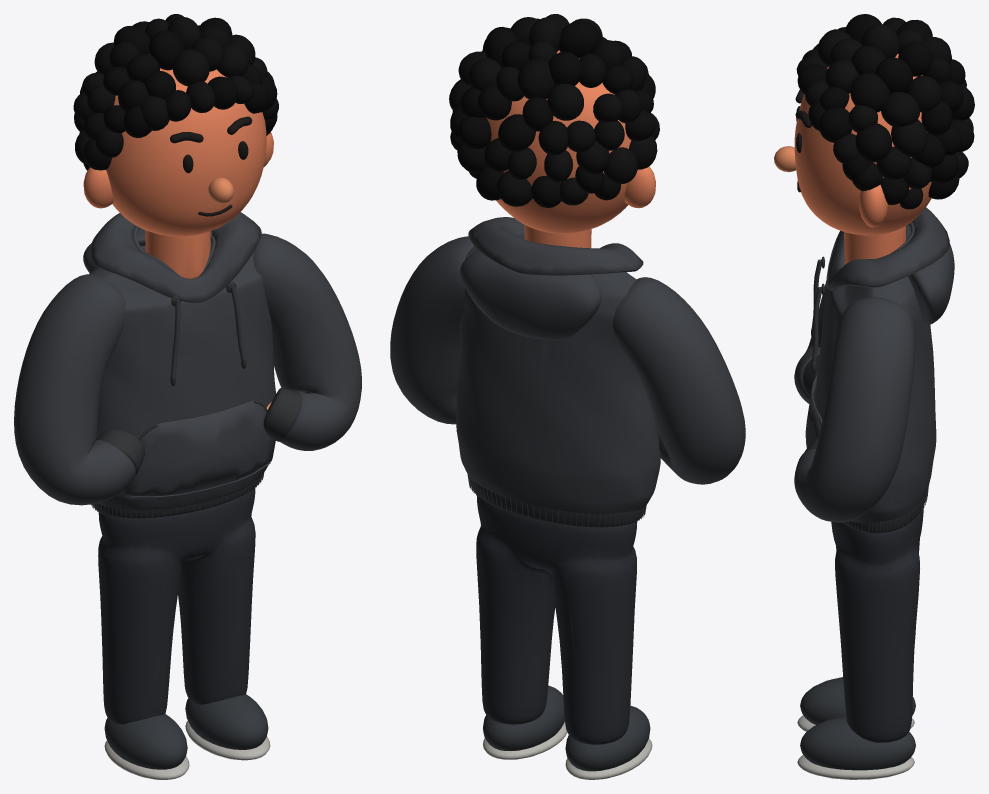
Rendered from avatar-model-v2.glb.
3 views of the same model, side by side, from view 1: azimuth 30°, elevation 25°; view 2: azimuth 150°, elevation 25°; view 3: azimuth 270°, elevation 25° (orthographic). The views are drawn at different scales.
Visible parts, largest first — view 1: Avatar · estudio de modelado v2; view 2: Avatar · estudio de modelado v2; view 3: Avatar · estudio de modelado v2.
Boxes of the visible parts, <box> form: Avatar · estudio de modelado v2: <box>14,14,361,779</box>; Avatar · estudio de modelado v2: <box>390,14,745,779</box>; Avatar · estudio de modelado v2: <box>774,14,974,779</box>.
Bounding box in the file's own units: 2.98 × 6.18 × 1.54.
